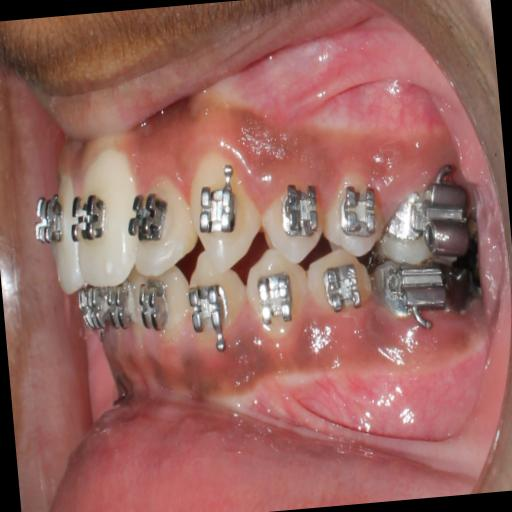correct_brace: (256, 174, 327, 262), (128, 188, 174, 248), (193, 182, 240, 237), (70, 191, 110, 245)
incorrect_brace: (126, 169, 198, 270), (278, 182, 322, 238)
